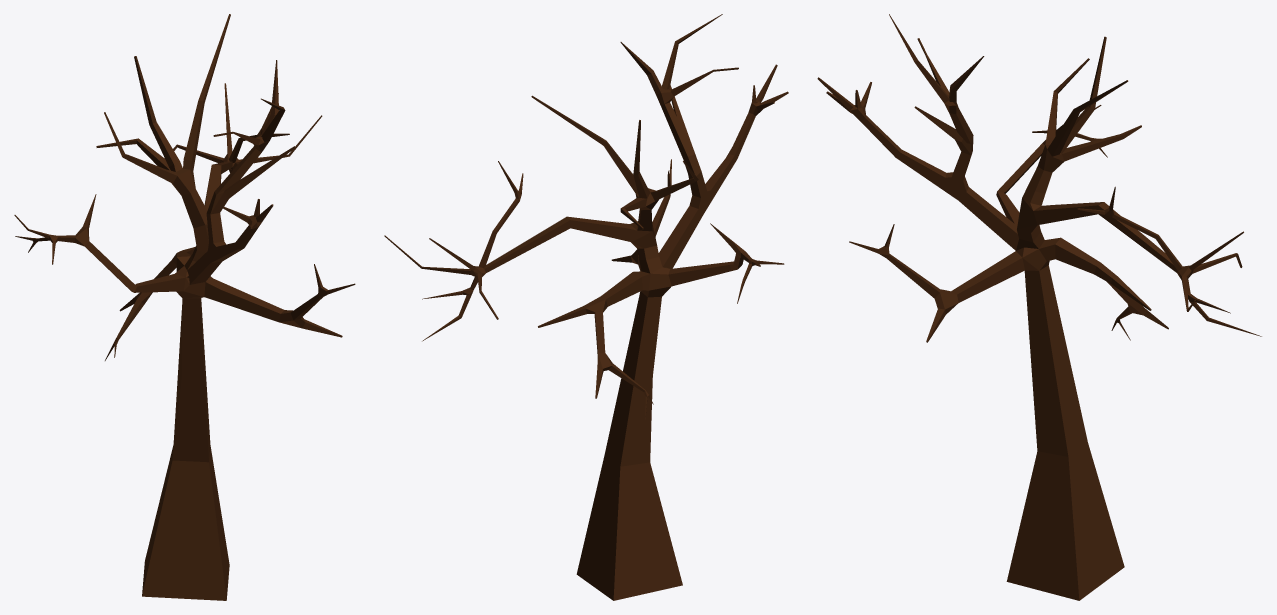
Rendered from tree-dead.glb.
3 views of the same model, side by side, from view 1: azimuth 30°, elevation 25°; view 2: azimuth 150°, elevation 25°; view 3: azimuth 270°, elevation 25° (orthographic). The views are drawn at different scales.
Visible parts, largest first — view 1: Plane.021; view 2: Plane.021; view 3: Plane.021.
Boxes of the visible parts, left/top/right/bottom form: Plane.021: left=14, top=14, right=355, bottom=600; Plane.021: left=384, top=14, right=788, bottom=600; Plane.021: left=817, top=14, right=1261, bottom=600.
Bounding box in the file's own units: 2.2 × 3.27 × 2.37.
